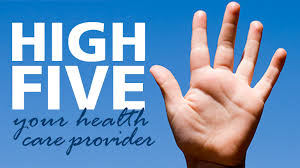palm: (147, 1, 290, 163)
